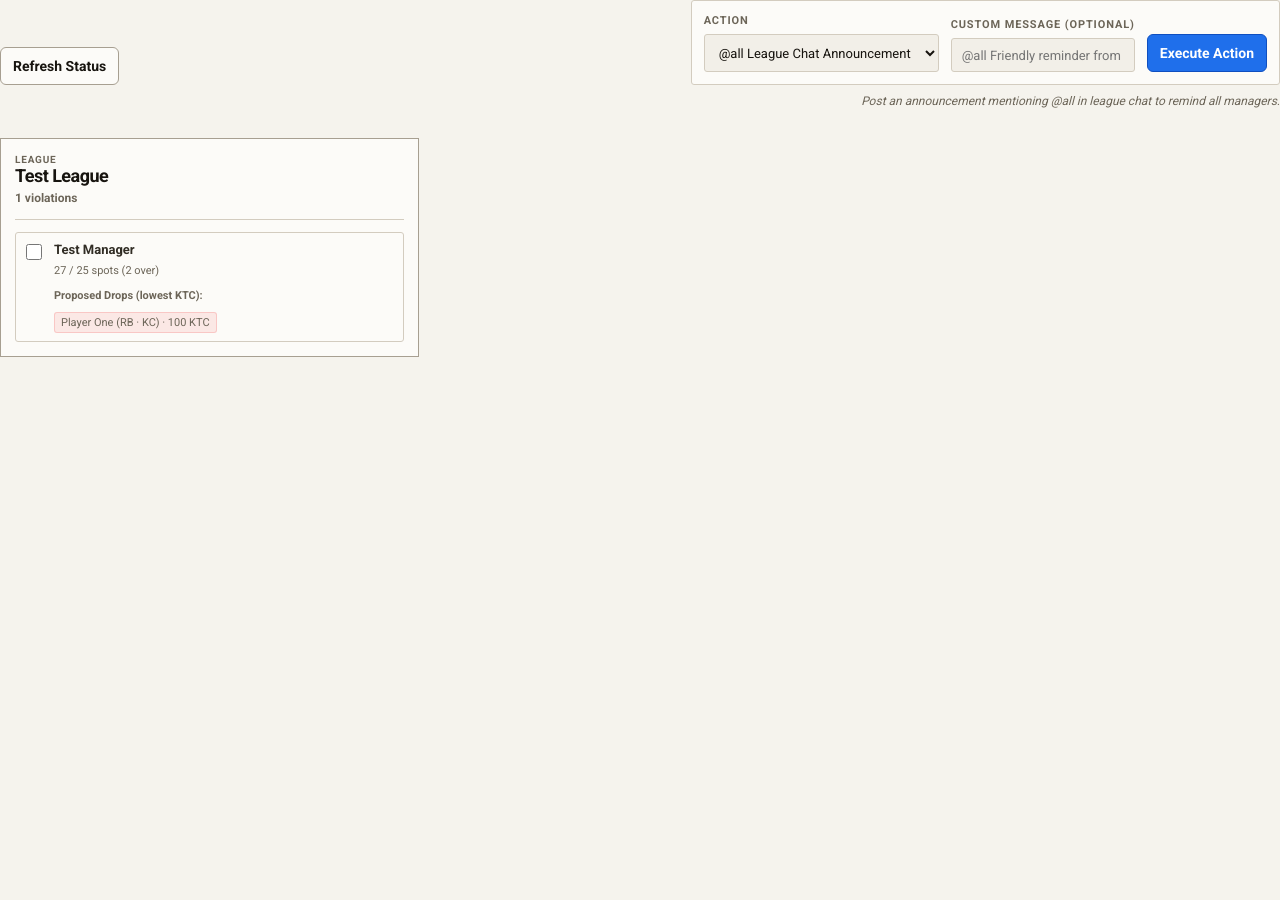
Test: CommissionerCutdownsTab › switches to Review & Drop and opens preview modal for force drop action
Select "Force Drop Lowest KTC Players" in the dropdown at (821, 53), box [704,34,939,72]
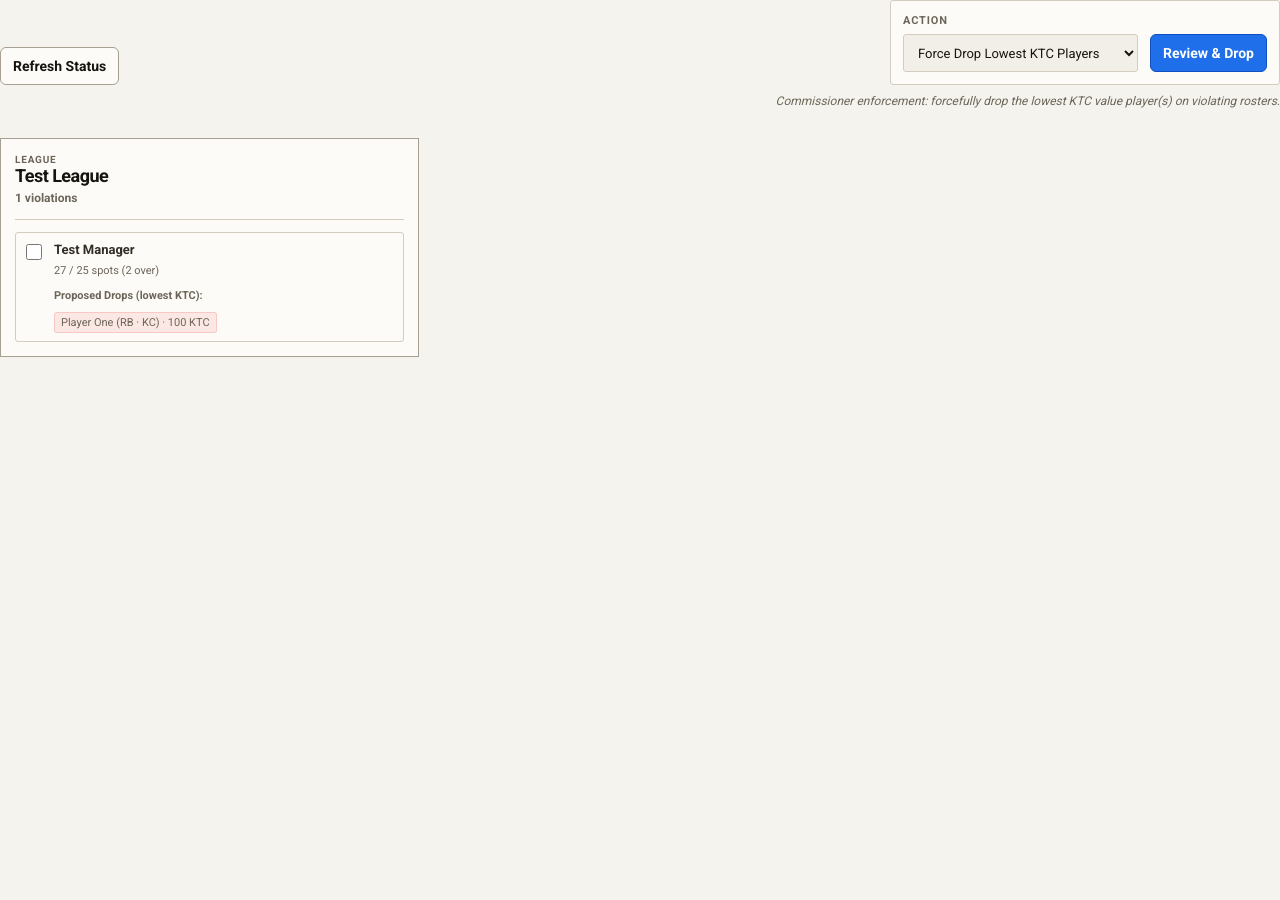
expect the button "Review & Drop" is shown: met, box [1150,34,1267,72]
Select the violation checkbox
Click the checkbox at (34, 252), box [26,244,42,260]
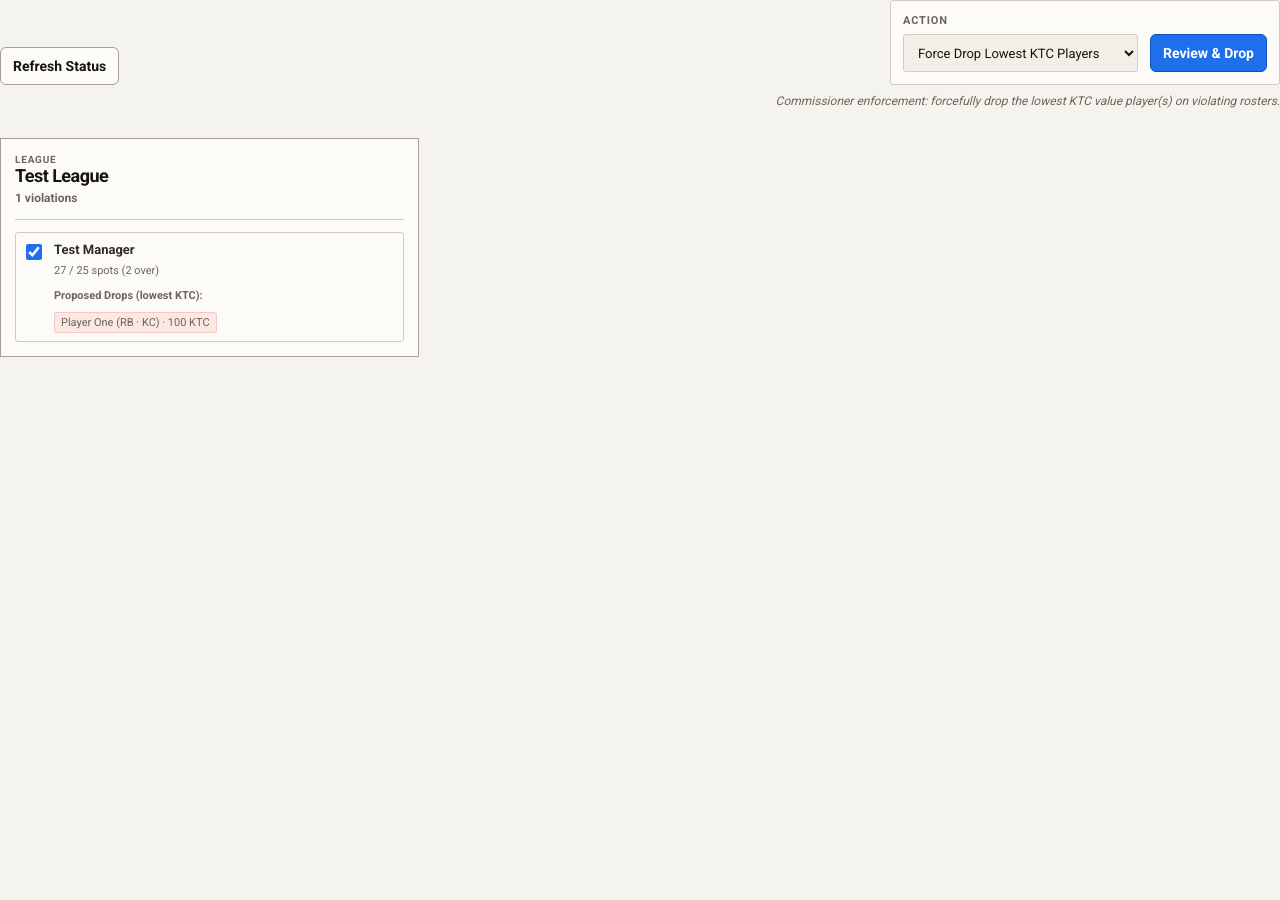
Click Review & Drop
Click the button "Review & Drop" at (1208, 53), box [1150,34,1267,72]
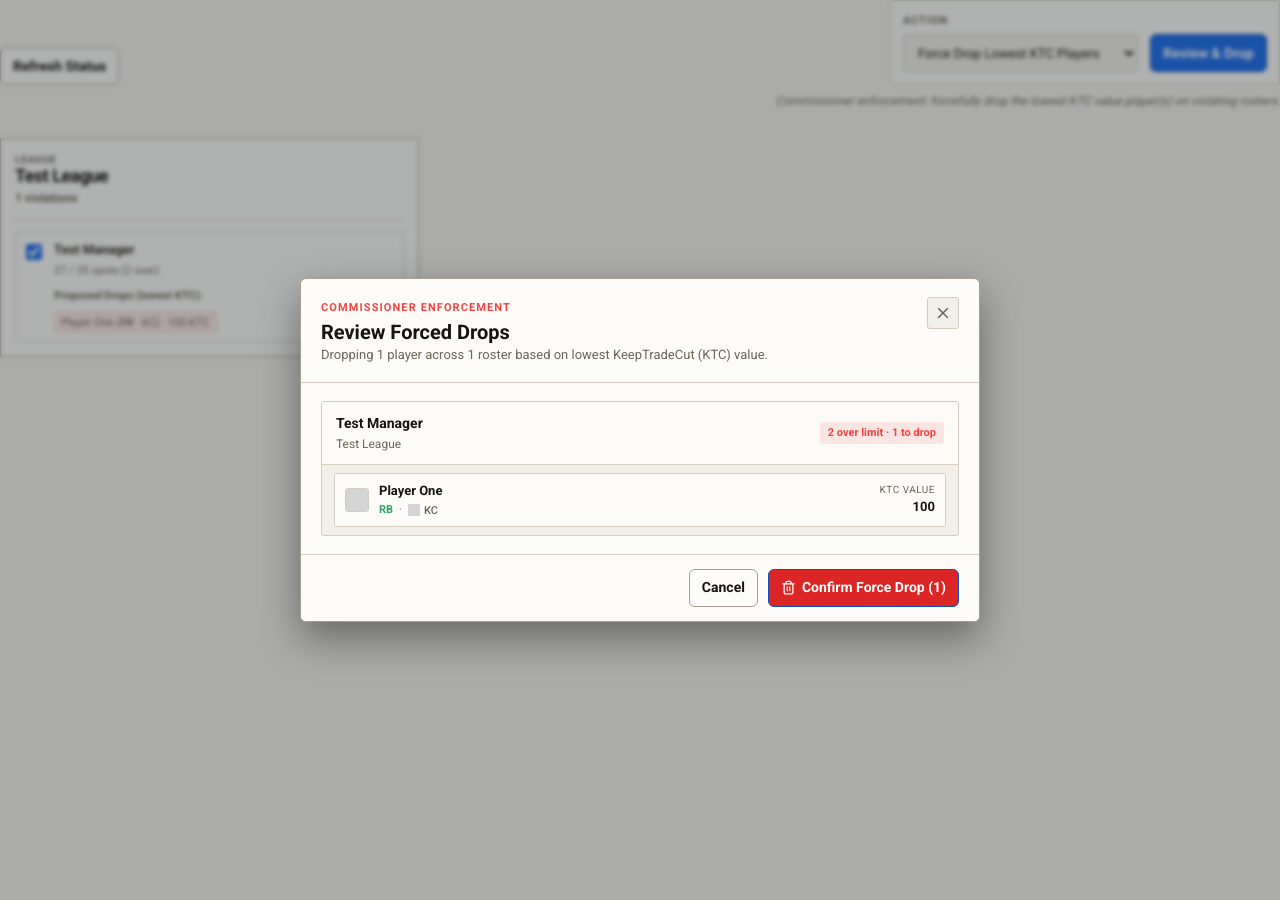
expect the heading "Review Forced Drops" is shown: met, box [321,320,510,344]
expect the text "Player One" is shown: met, box [379,482,442,500]
